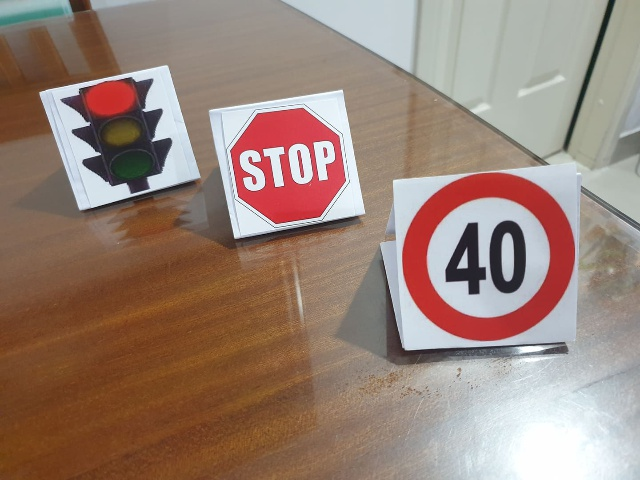Limit 40: (409, 173, 572, 341)
Red: (62, 81, 177, 190)
Stop: (227, 106, 350, 218)
